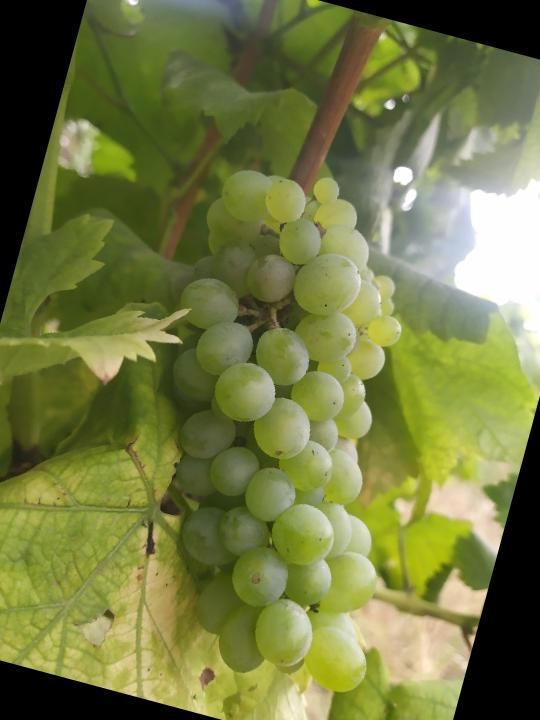grape: (90, 145, 492, 706)
